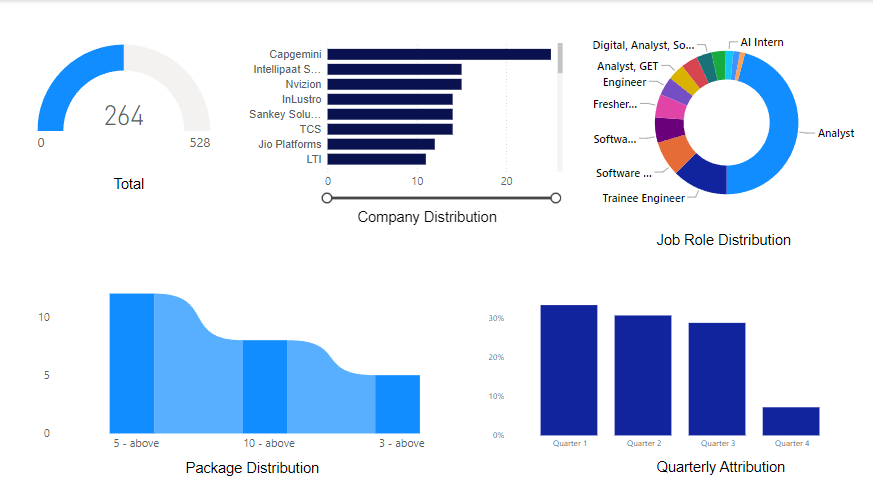

This screenshot's page, from the dashboard's own definition file:
{"tool":"powerbi","page":{"name":"Page 4","canvas":[1280,720],"ordinal":3},"visuals":[{"type":"gauge","fields":{"Y":["Sum(Compnay.Hiring_rate)"]},"box":[51.4,40,262.9,212.9],"z":0},{"type":"donutChart","fields":{"Category":["Compnay.Job_Role"],"Y":["Sum(Compnay.Hiring_rate)"]},"box":[861.4,28.6,405.7,300],"z":1000},{"type":"ribbonChart","fields":{"Category":["Compnay.Placement"],"Y":["Count(Compnay.Hiring_rate)"]},"box":[50.7,414.9,659.7,253.7],"z":2000},{"type":"barChart","fields":{"Y":["Sum(Compnay.Hiring_rate)"],"Category":["Compnay.Company_Name"]},"box":[347.1,50,482.9,251.4],"z":3000},{"type":"image","box":[155.2,255.2,40.3,46.3],"z":4000},{"type":"clusteredColumnChart","fields":{"Y":["Sum(Compnay.Hiring_rate)"],"Category":["Compnay.Hiring_season"]},"box":[711.4,422.9,541.4,244.3],"z":5000},{"type":"textbox","box":[957.1,667.1,240,47.1],"z":6000},{"type":"textbox","box":[520,301.4,240,38.6],"z":7000},{"type":"textbox","box":[267.1,668.6,225.7,48.6],"z":8000},{"type":"textbox","box":[957.1,335.7,282.9,47.1],"z":9000},{"type":"textbox","box":[162.9,252.9,67.1,48.6],"z":10000}]}

Visuals, with their boxes in screenshot pixels (x1, y1, x2, y2), scaled from the page's 1280x720 canvas onto the 873x491 screenshot:
gauge - Sum(Compnay.Hiring_rate): (left=35, top=27, right=214, bottom=172)
donutChart - Compnay.Job_Role x Sum(Compnay.Hiring_rate): (left=588, top=20, right=864, bottom=224)
ribbonChart - Compnay.Placement x Count(Compnay.Hiring_rate): (left=35, top=283, right=485, bottom=456)
barChart - Sum(Compnay.Hiring_rate) x Compnay.Company_Name: (left=237, top=34, right=566, bottom=206)
image: (left=106, top=174, right=133, bottom=206)
clusteredColumnChart - Sum(Compnay.Hiring_rate) x Compnay.Hiring_season: (left=485, top=288, right=854, bottom=455)
textbox: (left=653, top=455, right=816, bottom=487)
textbox: (left=355, top=206, right=518, bottom=232)
textbox: (left=182, top=456, right=336, bottom=489)
textbox: (left=653, top=229, right=846, bottom=261)
textbox: (left=111, top=172, right=157, bottom=206)
